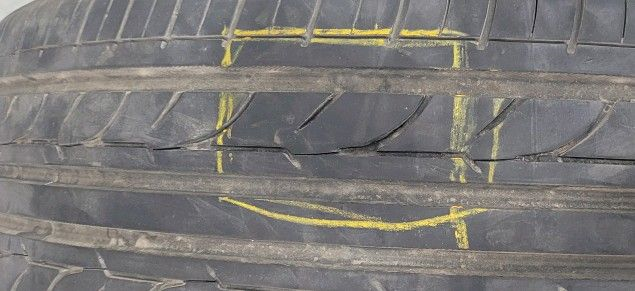tr: (333, 134, 388, 159)
